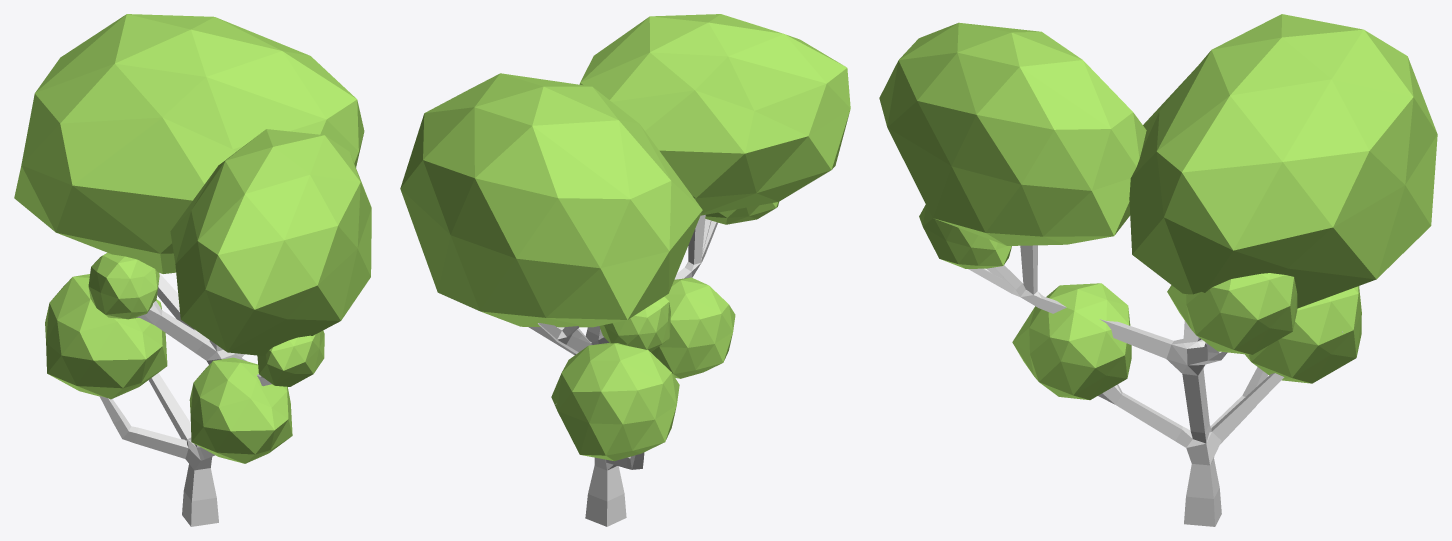
The model's file is tree2.fbx.
3 renders of one model, left to right at view 1: azimuth 30°, elevation 25°; view 2: azimuth 150°, elevation 25°; view 3: azimuth 270°, elevation 25°, orthographic. The views are drawn at different scales.
Parts seen in each view (by area): view 1: tree2; view 2: tree2; view 3: tree2.
Boxes of the visible parts, <box> form: tree2: <box>14,14,371,526</box>; tree2: <box>400,14,850,526</box>; tree2: <box>879,14,1437,526</box>.
Bounding box in the file's own units: 913 × 1318 × 1345.
